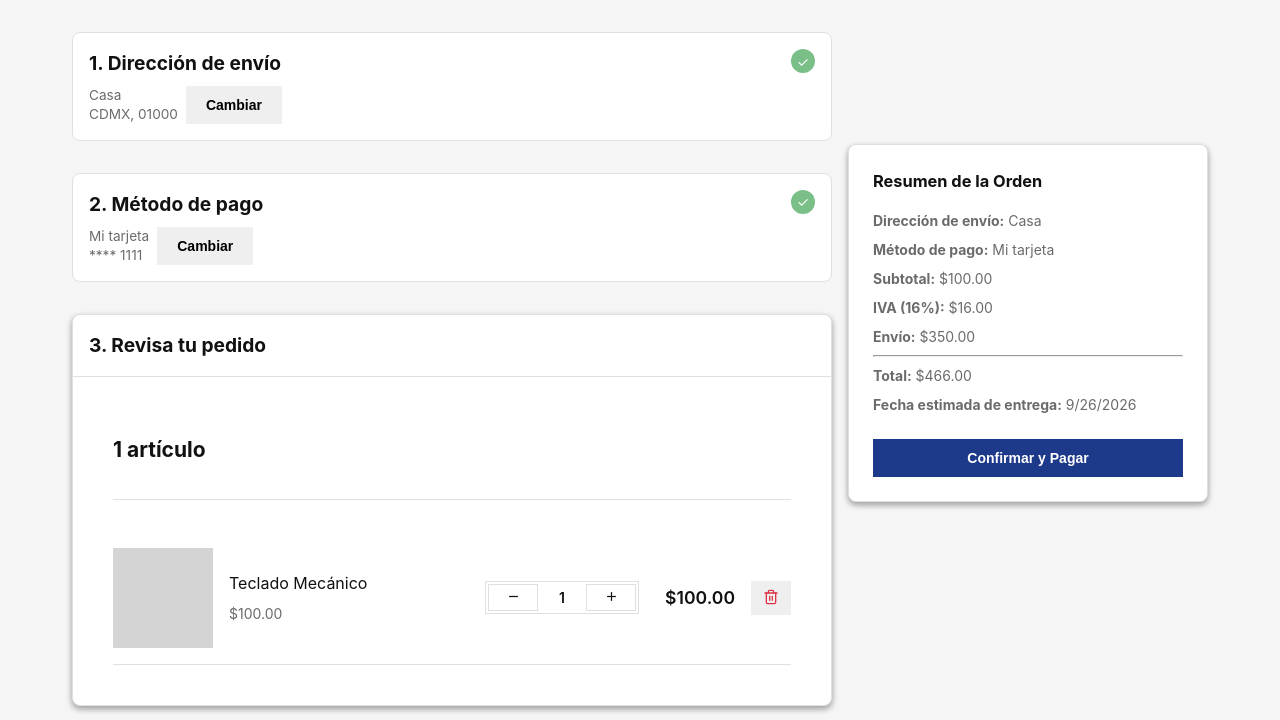
Scenario: Checkout › muestra un error y no crea la orden si el pago simulado es rechazado
What coordinates should you click on to do the following:
click the button with test id "checkout-confirm-button"
I would click on:
 (1028, 458)
Its box is left=873, top=439, right=1183, bottom=477.
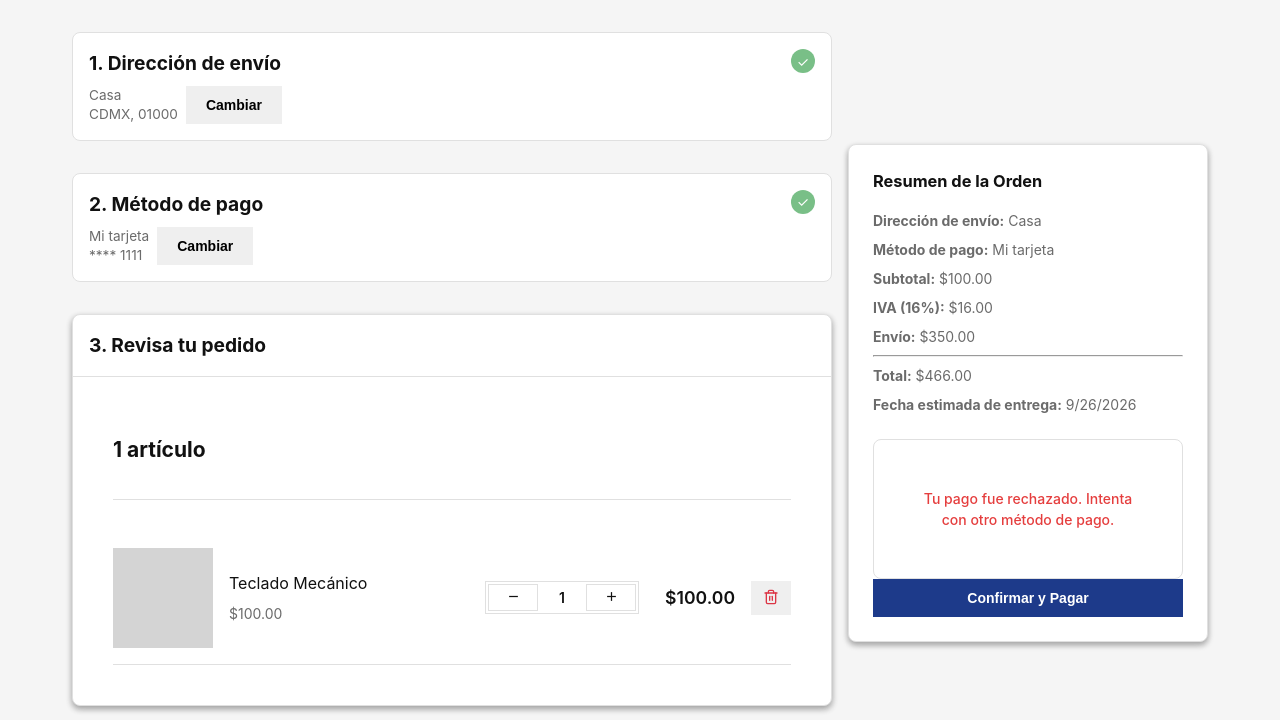
Expected: the button with test id "checkout-confirm-button" is enabled, left=873, top=579, right=1183, bottom=617
Result: the text "Tu pago fue rechazado. Intenta con otro método de pago." is shown at left=873, top=439, right=1183, bottom=579
